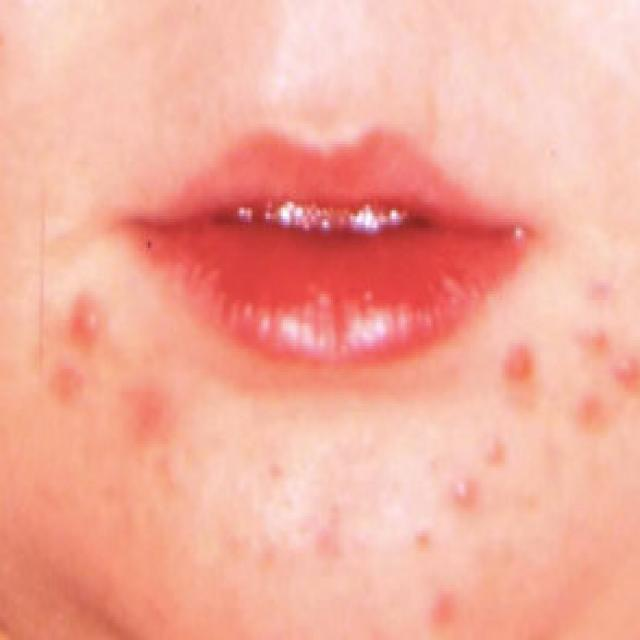Pimples: (502, 344, 539, 391), (605, 343, 640, 391), (70, 298, 106, 344), (448, 468, 478, 514), (582, 316, 613, 356), (449, 473, 481, 511), (467, 493, 473, 504)
